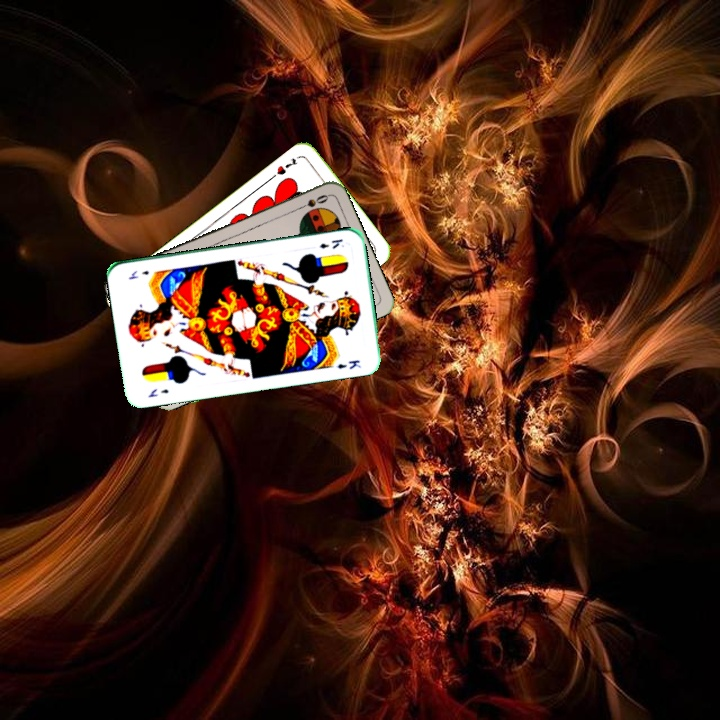EK: (316, 235, 345, 251), (144, 385, 171, 400)
H7: (273, 154, 300, 178)
SO: (292, 190, 331, 213)
